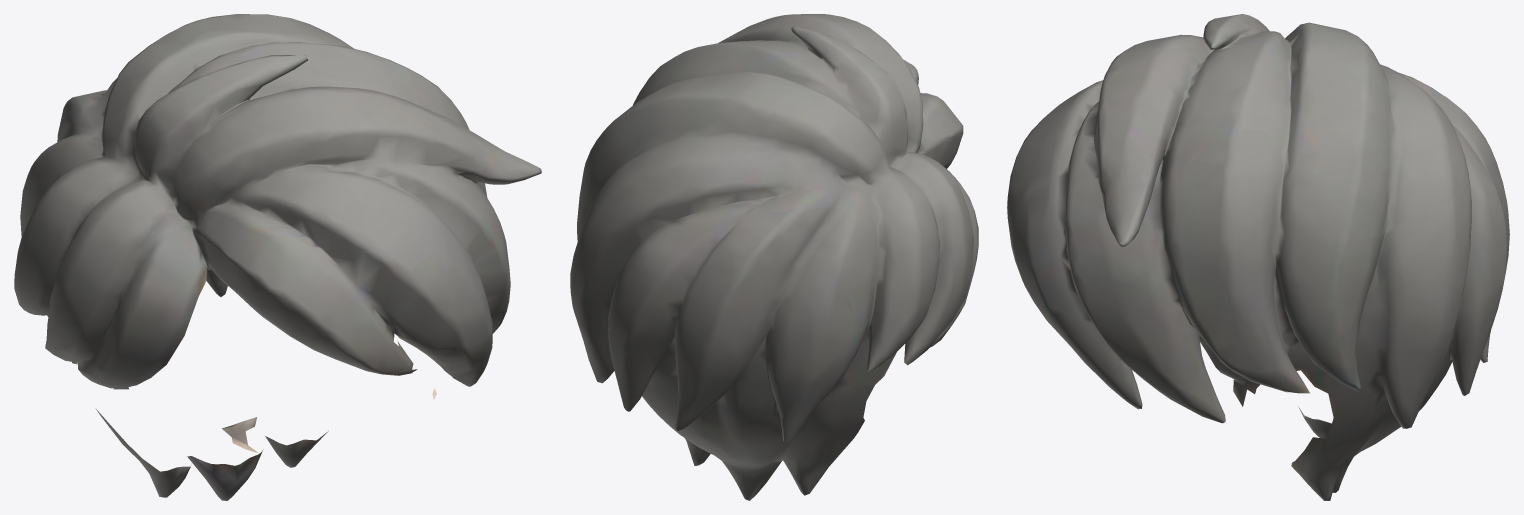
The model's file is hair-f-pixie.glb.
The picture shows the model from 3 angles, left to right: view 1: azimuth 30°, elevation 25°; view 2: azimuth 150°, elevation 25°; view 3: azimuth 270°, elevation 25°; orthographic projection. The views are drawn at different scales.
Visible parts, largest first — view 1: hair-f-pixie; view 2: hair-f-pixie; view 3: hair-f-pixie.
Boxes of the visible parts, x1,y1,x2,y2 form: hair-f-pixie: [14, 14, 541, 500]; hair-f-pixie: [570, 14, 978, 500]; hair-f-pixie: [1007, 14, 1509, 500].
Bounding box in the file's own units: 1.05 × 1.22 × 1.21.
1 material, 1 textured.
